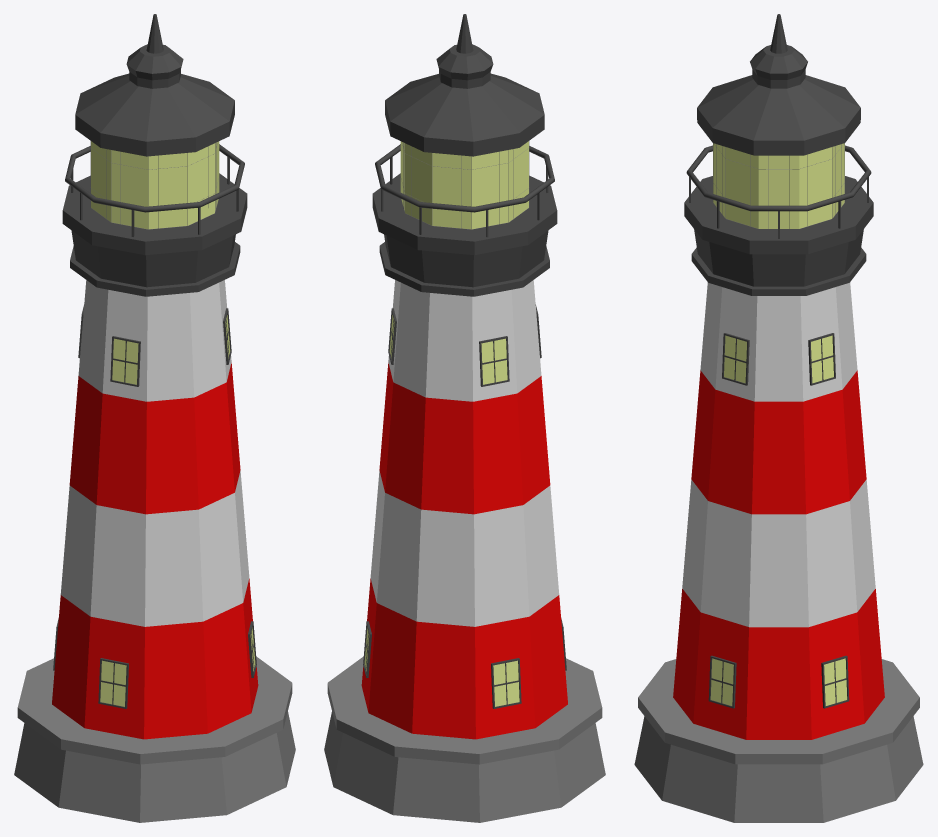
Rendered from lighthouse.glb.
3 renders of one model, left to right at view 1: azimuth 30°, elevation 25°; view 2: azimuth 150°, elevation 25°; view 3: azimuth 270°, elevation 25°, orthographic.
Parts seen in each view (by area): view 1: Circle, Circle.002, Plane.001, Plane, Circle.003; view 2: Circle, Circle.002, Plane.001, Plane, Circle.003; view 3: Circle, Plane.001, Plane, Circle.002, Circle.003.
Boxes of the visible parts, left/top/right/bottom form: Circle: left=14, top=14, right=295, bottom=822; Circle.002: left=65, top=144, right=244, bottom=236; Plane.001: left=53, top=617, right=256, bottom=708; Plane: left=78, top=304, right=231, bottom=386; Circle.003: left=90, top=141, right=218, bottom=229; Circle: left=324, top=14, right=605, bottom=822; Circle.002: left=375, top=144, right=554, bottom=237; Plane.001: left=363, top=617, right=566, bottom=708; Plane: left=388, top=304, right=541, bottom=386; Circle.003: left=401, top=141, right=529, bottom=229; Circle: left=634, top=14, right=923, bottom=822; Plane.001: left=708, top=655, right=849, bottom=708; Plane: left=722, top=333, right=835, bottom=385; Circle.002: left=686, top=145, right=871, bottom=238; Circle.003: left=713, top=143, right=844, bottom=228.
Bounding box in the file's own units: 0.6641 × 2 × 0.6983.
1 material, 1 textured.
